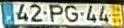2: (28, 2, 44, 22)
4: (15, 3, 29, 23), (85, 4, 97, 24), (97, 4, 109, 24)
G: (63, 3, 79, 23)
P: (48, 3, 64, 23)
